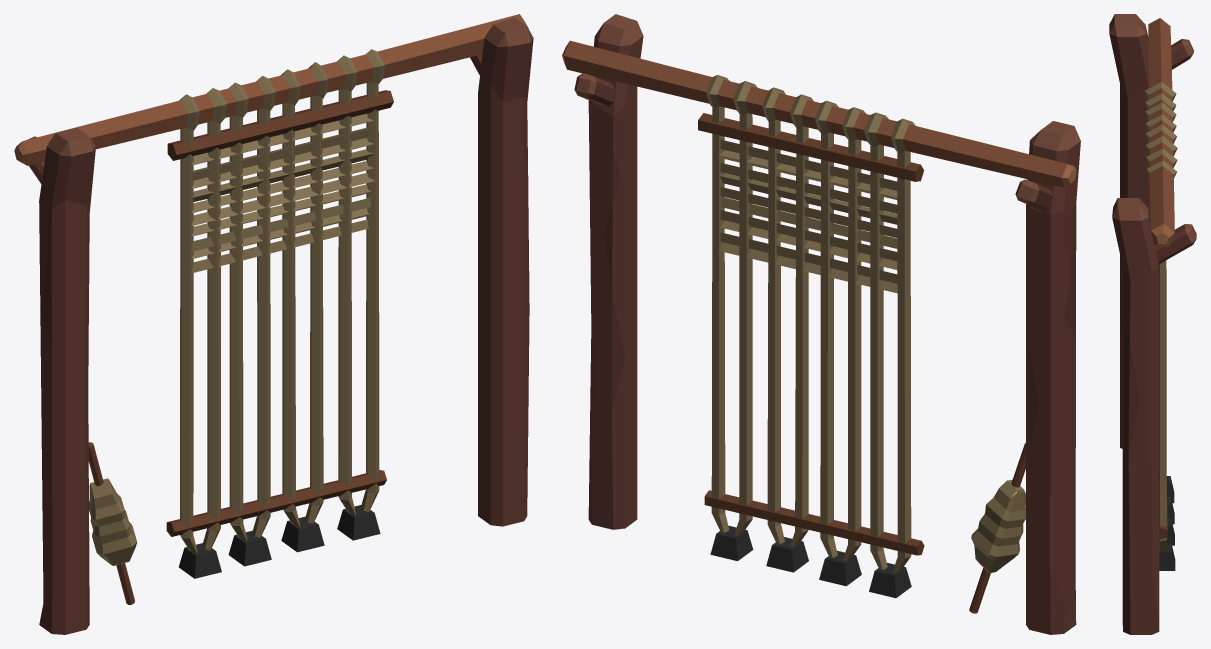
Rendered from textile_bench.fbx.
The picture shows the model from 3 angles, left to right: view 1: azimuth 30°, elevation 25°; view 2: azimuth 150°, elevation 25°; view 3: azimuth 270°, elevation 25°; orthographic projection. The views are drawn at different scales.
Visible parts, largest first — view 1: textile_bench, shuttle_spindle; view 2: textile_bench, shuttle_spindle; view 3: textile_bench.
Part boxes in pixels (left/top/right/bottom): textile_bench: left=14, top=14, right=533, bottom=634; shuttle_spindle: left=88, top=442, right=136, bottom=604; textile_bench: left=562, top=14, right=1080, bottom=634; shuttle_spindle: left=969, top=443, right=1025, bottom=613; textile_bench: left=1109, top=14, right=1196, bottom=634.
Bounding box in the file's own units: 98.59 × 92.15 × 17.14.
